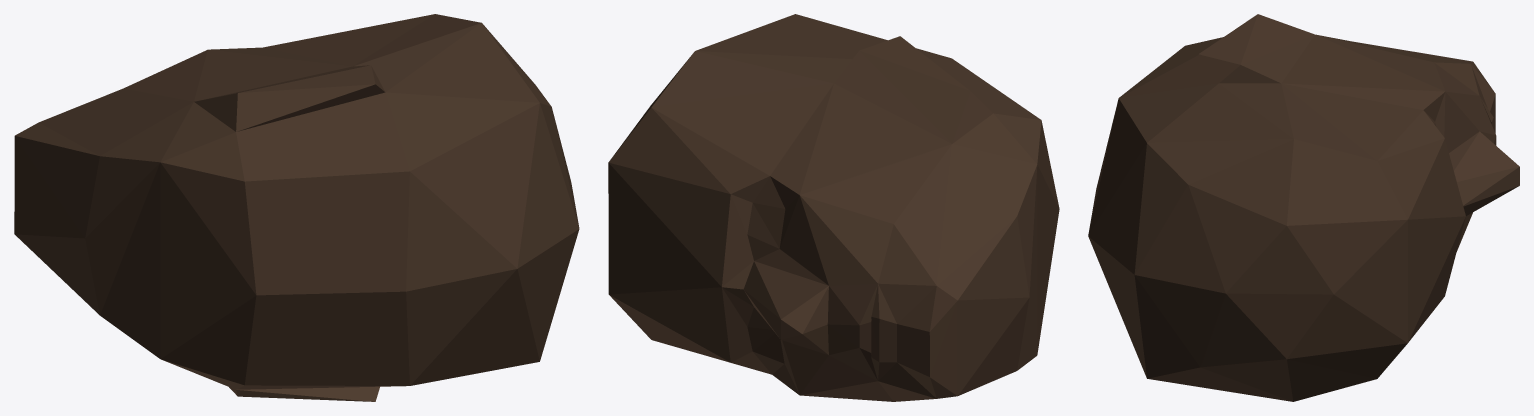
File: HUM_HEAD_LUTTER.OBJ
3 renders of one model, left to right at view 1: azimuth 30°, elevation 25°; view 2: azimuth 150°, elevation 25°; view 3: azimuth 270°, elevation 25°, orthographic. The views are drawn at different scales.
Parts seen in each view (by area): view 1: HUM_HEAD_LUTTER; view 2: HUM_HEAD_LUTTER; view 3: HUM_HEAD_LUTTER.
Boxes of the visible parts, x1,y1,x2,y2 form: HUM_HEAD_LUTTER: (14, 14, 579, 401); HUM_HEAD_LUTTER: (608, 14, 1059, 401); HUM_HEAD_LUTTER: (1088, 14, 1519, 401).
Size of the model in its own units: 0.2413 by 0.1724 by 0.2333.
